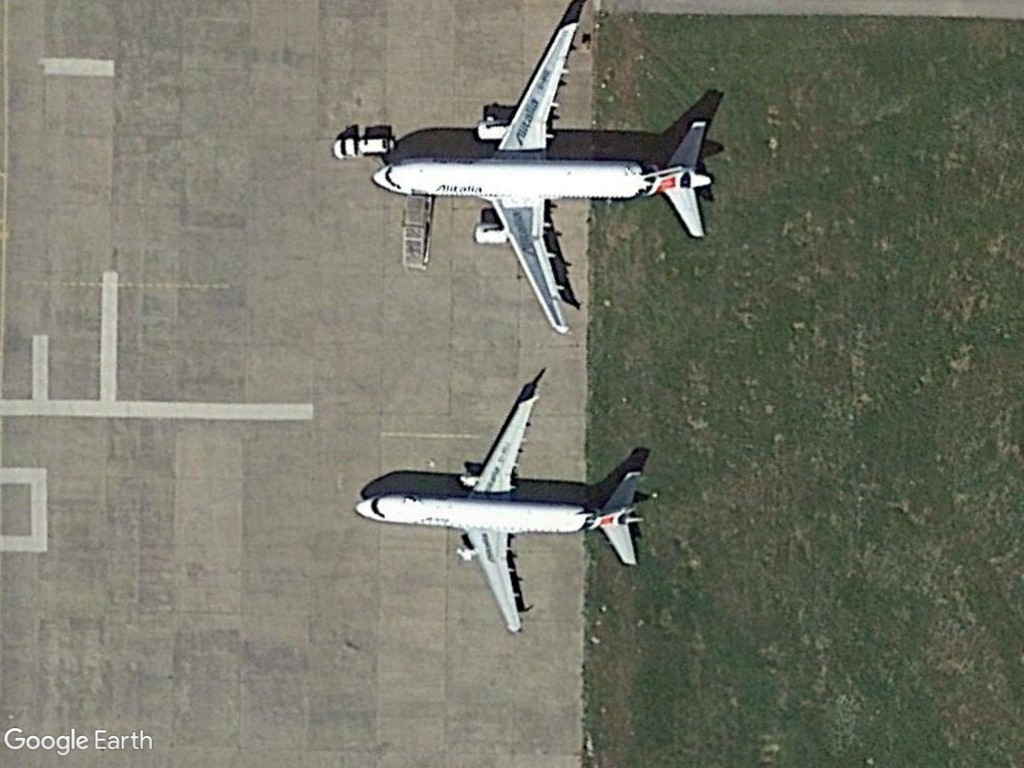airliner: (368, 21, 731, 339), (353, 384, 654, 640)
other: (323, 130, 400, 163)
